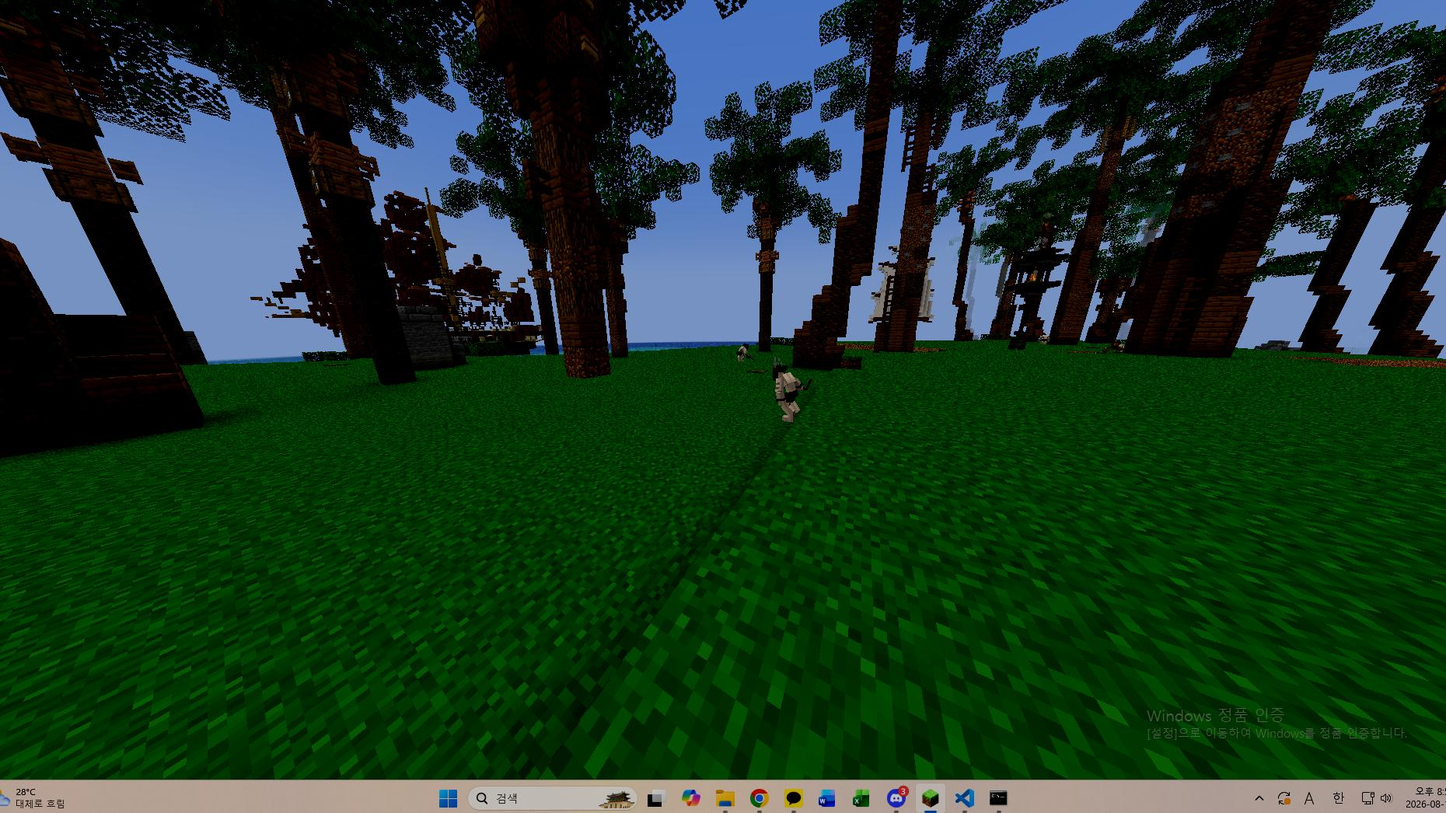bow_indian: (763, 355, 826, 426)
